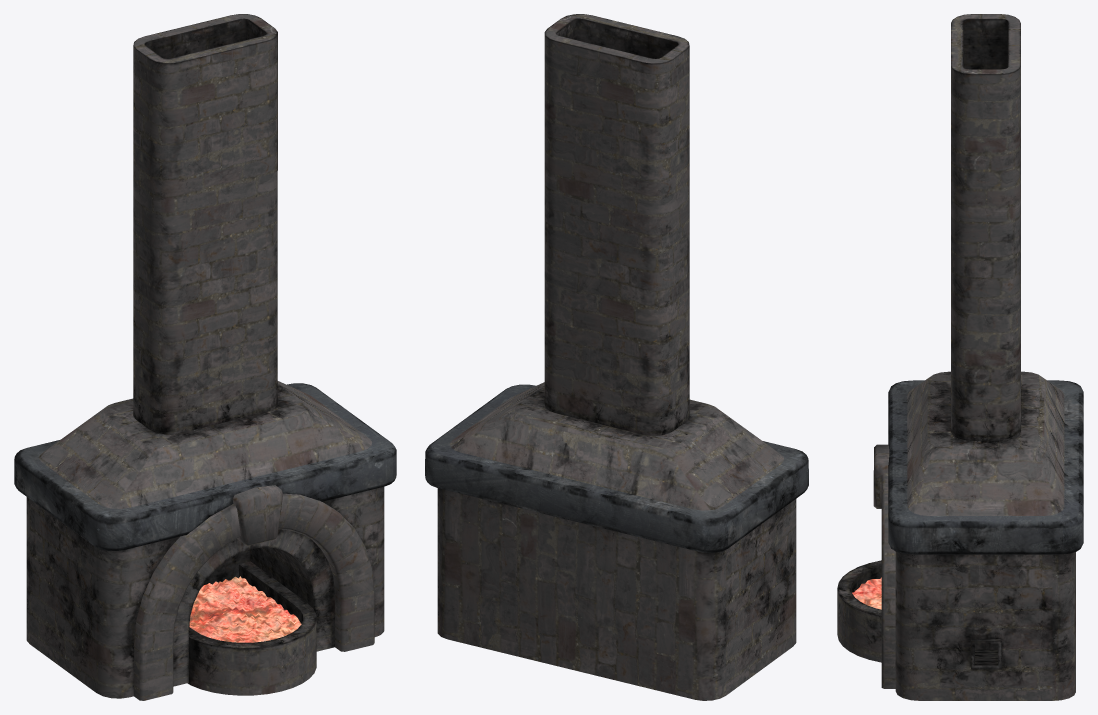
Rendered from forge.glb.
3 renders of one model, left to right at view 1: azimuth 30°, elevation 25°; view 2: azimuth 150°, elevation 25°; view 3: azimuth 270°, elevation 25°, orthographic.
Visible parts, largest first — view 1: forge; view 2: forge; view 3: forge.
Part boxes in pixels (x1,y1,x2,y2): forge: (14,14,396,700); forge: (425,14,808,700); forge: (837,14,1083,700).
Bounding box in the file's own units: 0.5244 × 1 × 0.3779.
1 material, 1 textured.
